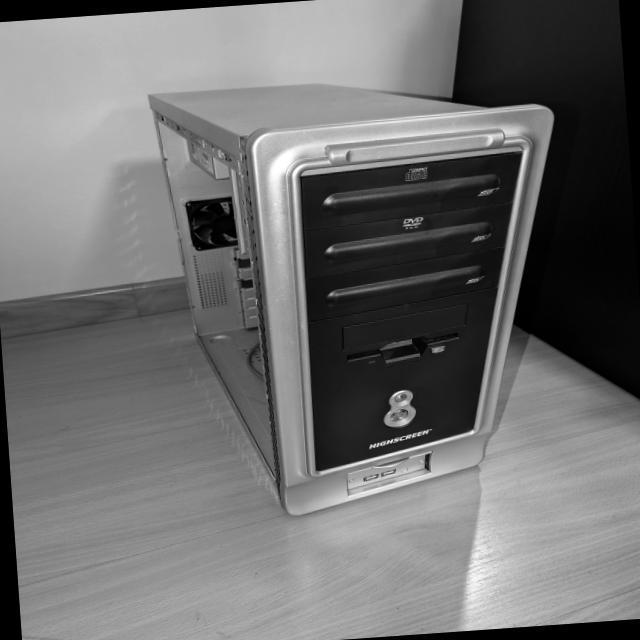PSU: (186, 136, 234, 182)
